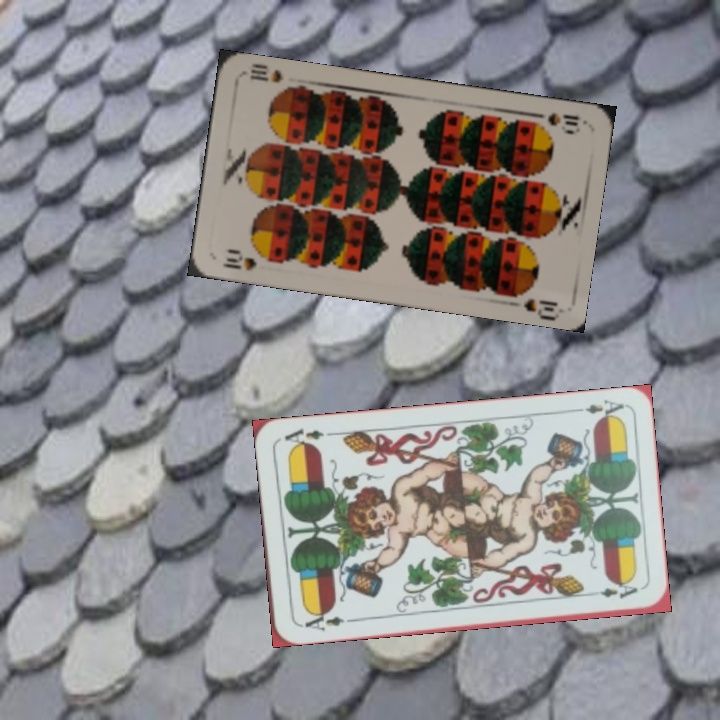EA: (567, 395, 627, 423), (296, 607, 347, 634)
S10: (219, 245, 274, 273), (543, 108, 582, 135)
